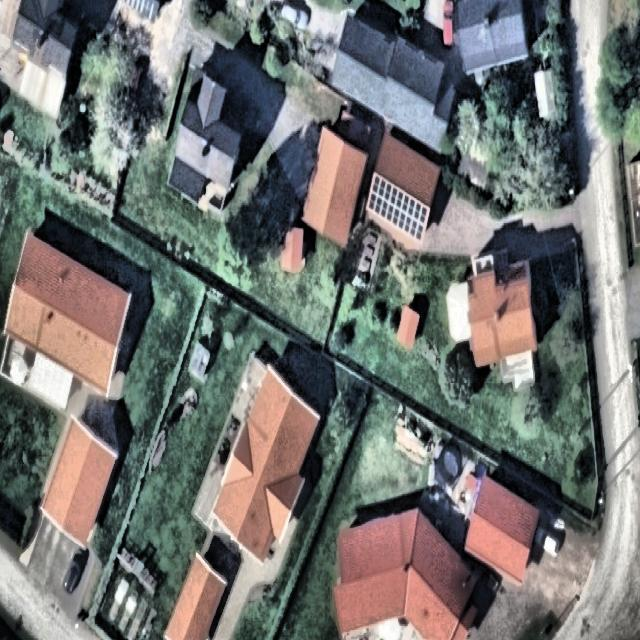roof_pv: (367, 170, 427, 242)
